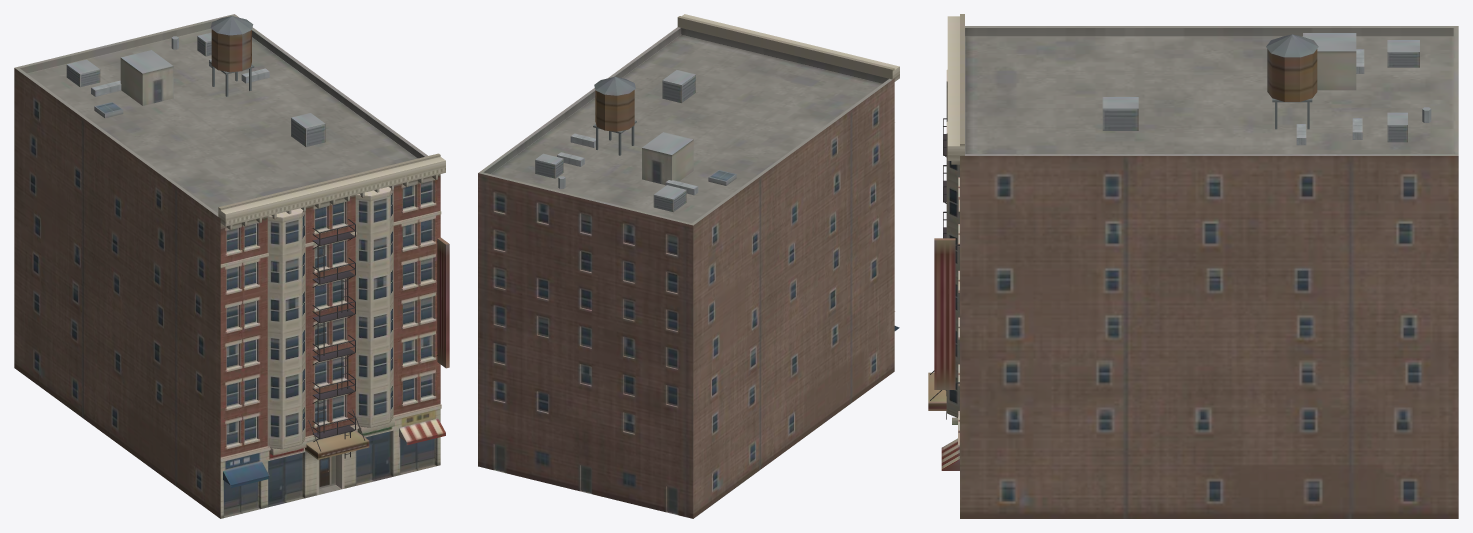
File: sf_brick_d.glb
3 renders of one model, left to right at view 1: azimuth 30°, elevation 25°; view 2: azimuth 150°, elevation 25°; view 3: azimuth 270°, elevation 25°, orthographic. The views are drawn at different scales.
Parts seen in each view (by area): view 1: sf_brick_d; view 2: sf_brick_d; view 3: sf_brick_d.
Part boxes in pixels (<box>): sf_brick_d: <box>14,14,449,518</box>; sf_brick_d: <box>478,14,899,518</box>; sf_brick_d: <box>928,14,1458,518</box>.
Bounding box in the file's own units: 18.5 × 29.38 × 31.9.
1 material, 1 textured.
